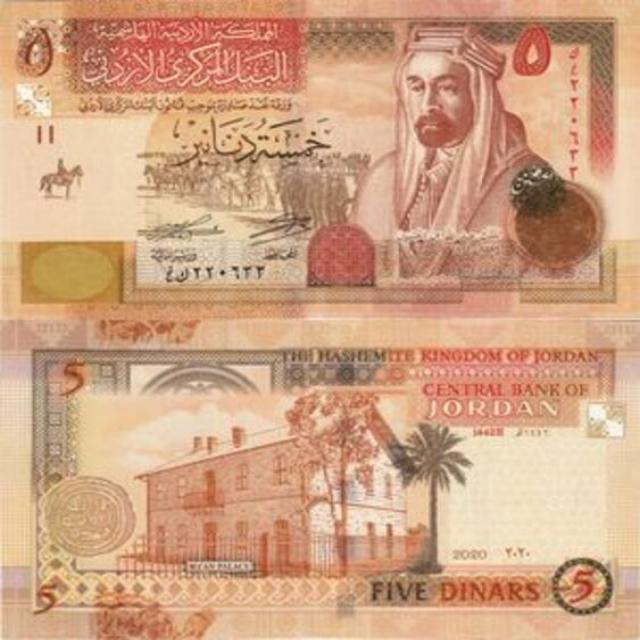5-dinar: (0, 0, 640, 320), (0, 320, 640, 640)
